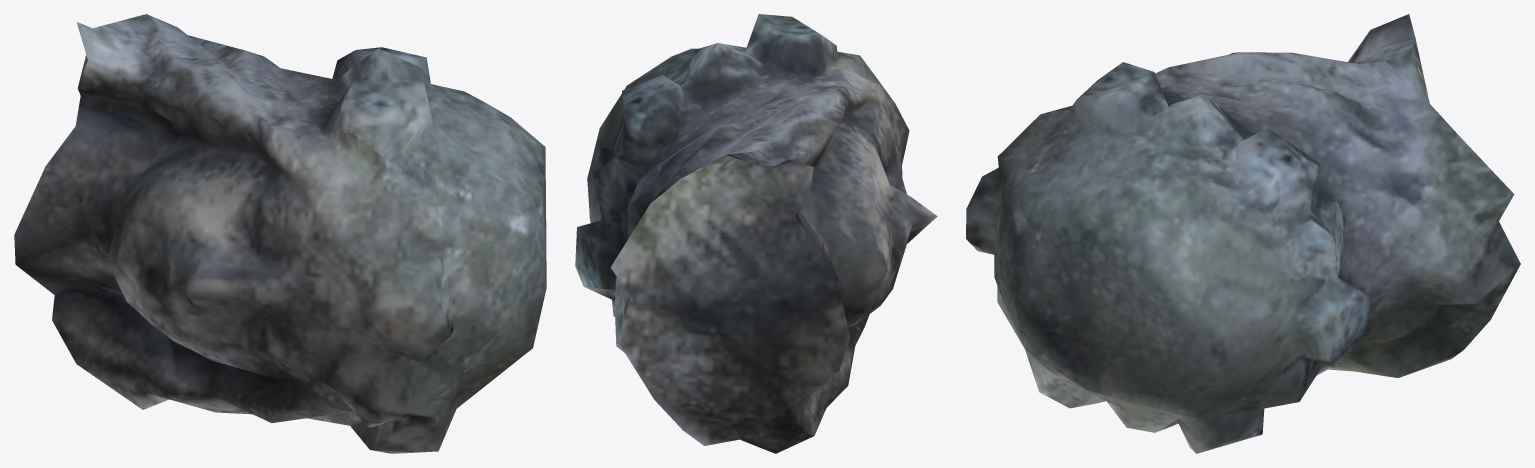
File: sm_GraveSculpture_06_03.fbx
The picture shows the model from 3 angles, left to right: view 1: azimuth 30°, elevation 25°; view 2: azimuth 150°, elevation 25°; view 3: azimuth 270°, elevation 25°; orthographic projection. The views are drawn at different scales.
Parts seen in each view (by area): view 1: sm_GraveSculpture_06_03_LOD0; view 2: sm_GraveSculpture_06_03_LOD0; view 3: sm_GraveSculpture_06_03_LOD0.
Part boxes in pixels (box(x1,y1,x2,y2)): sm_GraveSculpture_06_03_LOD0: box(14, 14, 546, 453); sm_GraveSculpture_06_03_LOD0: box(575, 14, 937, 453); sm_GraveSculpture_06_03_LOD0: box(966, 14, 1520, 453).
Bounding box in the file's own units: 31.6 × 40.07 × 27.5.
